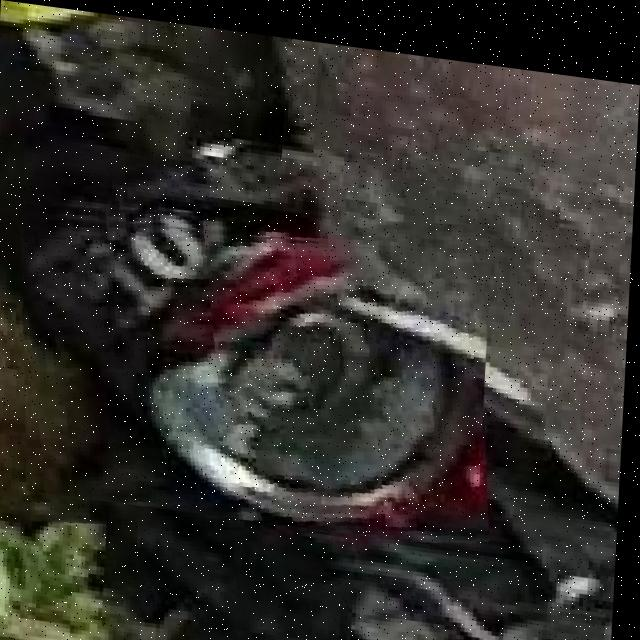can: (25, 215, 487, 528)
